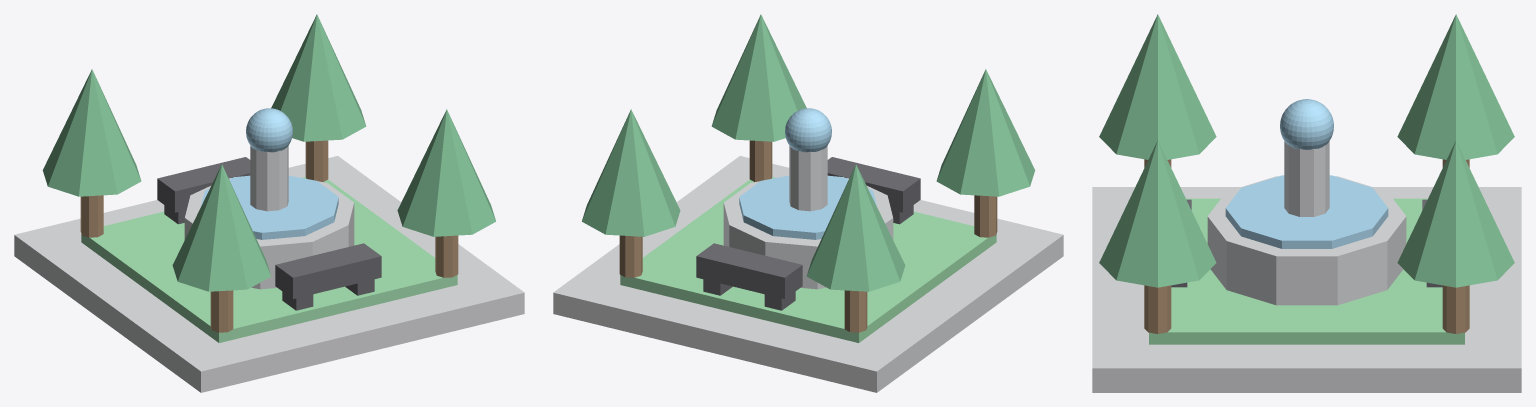
File: park.glb
3 views of the same model, side by side, from view 1: azimuth 30°, elevation 25°; view 2: azimuth 150°, elevation 25°; view 3: azimuth 270°, elevation 25° (orthographic). The views are drawn at different scales.
Parts seen in each view (by area): view 1: plaza, lawn, crown0, crown1, crown2, crown3, water, bench0, basin, pillar, bench1, top (+4 smaller); view 2: plaza, lawn, crown2, crown3, crown0, crown1, water, bench1, basin, pillar, bench0, top (+4 smaller); view 3: plaza, lawn, basin, crown1, crown3, crown0, crown2, water, pillar, top, trunk1, trunk3.
Part boxes in pixels (left/top/right/bottom): plaza: left=14, top=156, right=524, bottom=392; lawn: left=81, top=177, right=457, bottom=342; crown0: left=172, top=164, right=271, bottom=291; crown1: left=397, top=109, right=495, bottom=236; crown2: left=42, top=69, right=141, bottom=196; crown3: left=271, top=14, right=366, bottom=141; water: left=201, top=175, right=338, bottom=239; bench0: left=275, top=243, right=381, bottom=298; basin: left=184, top=178, right=354, bottom=289; pillar: left=250, top=146, right=288, bottom=211; bench1: left=157, top=157, right=250, bottom=212; top: left=246, top=108, right=292, bottom=152; plaza: left=553, top=156, right=1063, bottom=392; lawn: left=620, top=177, right=996, bottom=342; crown2: left=806, top=164, right=905, bottom=291; crown3: left=582, top=109, right=680, bottom=236; crown0: left=936, top=69, right=1035, bottom=196; crown1: left=711, top=14, right=806, bottom=141; water: left=739, top=175, right=876, bottom=239; bench1: left=696, top=243, right=802, bottom=298; basin: left=723, top=178, right=893, bottom=289; pillar: left=789, top=146, right=827, bottom=211; bench0: left=827, top=157, right=920, bottom=212; top: left=785, top=108, right=831, bottom=152; plaza: left=1092, top=187, right=1521, bottom=392; lawn: left=1149, top=198, right=1464, bottom=344; basin: left=1207, top=176, right=1406, bottom=305; crown1: left=1099, top=140, right=1216, bottom=287; crown3: left=1397, top=140, right=1514, bottom=287; crown0: left=1099, top=14, right=1216, bottom=159; crown2: left=1397, top=14, right=1514, bottom=159; water: left=1225, top=175, right=1388, bottom=248; pillar: left=1284, top=141, right=1329, bottom=216; top: left=1280, top=99, right=1333, bottom=149; trunk1: left=1144, top=285, right=1171, bottom=333; trunk3: left=1442, top=285, right=1469, bottom=333.
Size of the model in its own units: 0.95 by 0.55 by 0.95.
